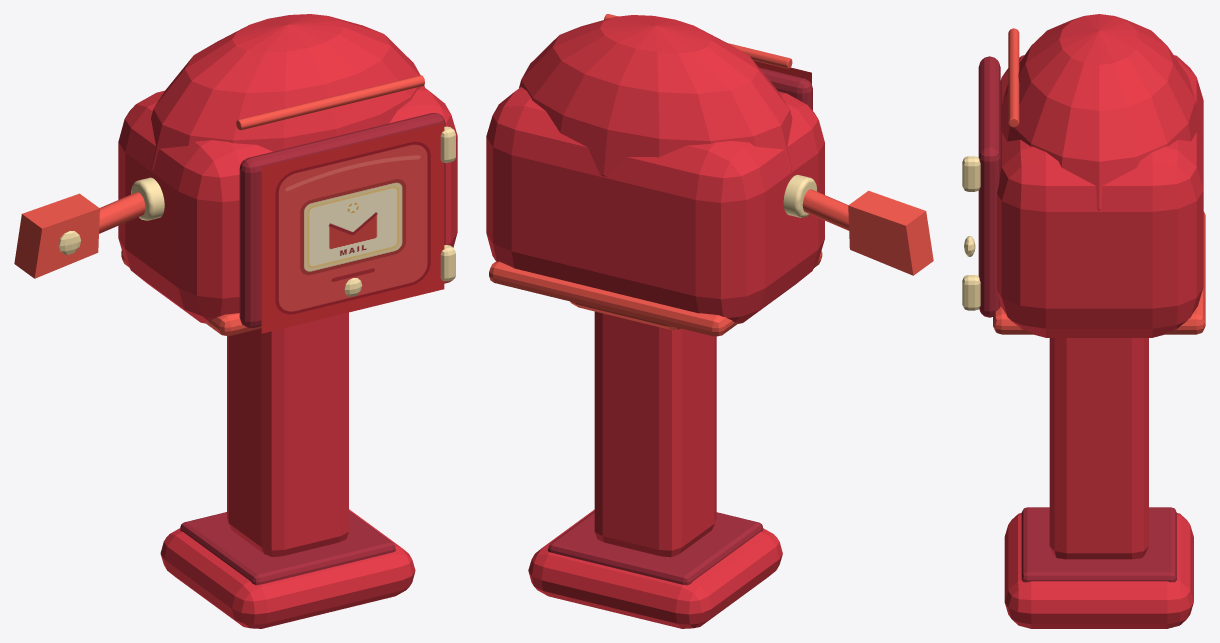
File: asset.glb
3 views of the same model, side by side, from view 1: azimuth 30°, elevation 25°; view 2: azimuth 150°, elevation 25°; view 3: azimuth 270°, elevation 25° (orthographic).
Visible parts, largest first — view 1: Small front door • painted postal emblem, Mailbox support post, Curved mailbox crown, Rounded mailbox shell, Broad rounded plinth, Front door raised rim, Plinth lower shadow line, Lowered red pennant, Crown highlight bead, Lowered signal arm, Signal flag pivot, Lower shell band; view 2: Rounded mailbox shell, Curved mailbox crown, Mailbox support post, Broad rounded plinth, Plinth lower shadow line, Lowered red pennant, Lower shell band, Lowered signal arm, Front door raised rim, Signal flag pivot, Crown highlight bead; view 3: Rounded mailbox shell, Curved mailbox crown, Mailbox support post, Broad rounded plinth, Plinth lower shadow line, Front door raised rim, Lower shell band, Crown highlight bead, Ivory door hinge, Ivory door hinge.001.
Part boxes in pixels (x1,y1,x2,y2): Small front door • painted postal emblem: (261, 122, 444, 333); Mailbox support post: (227, 312, 348, 556); Curved mailbox crown: (151, 14, 424, 170); Rounded mailbox shell: (118, 86, 457, 323); Broad rounded plinth: (160, 509, 415, 628); Front door raised rim: (239, 113, 445, 327); Plinth lower shadow line: (180, 511, 395, 585); Lowered red pennant: (14, 193, 99, 278); Crown highlight bead: (236, 75, 424, 130); Lowered signal arm: (99, 192, 145, 233); Signal flag pivot: (131, 177, 164, 220); Lower shell band: (121, 250, 452, 335); Rounded mailbox shell: (486, 87, 824, 323); Curved mailbox crown: (519, 15, 792, 176); Mailbox support post: (594, 311, 716, 557); Broad rounded plinth: (528, 509, 782, 628); Plinth lower shadow line: (548, 511, 762, 585); Lowered red pennant: (848, 190, 933, 275); Lower shell band: (489, 251, 822, 336); Lowered signal arm: (802, 189, 849, 230); Front door raised rim: (759, 67, 812, 110); Signal flag pivot: (783, 175, 816, 217); Crown highlight bead: (604, 14, 792, 68); Rounded mailbox shell: (997, 55, 1203, 337); Curved mailbox crown: (1000, 14, 1203, 210); Mailbox support post: (1049, 338, 1148, 559); Broad rounded plinth: (1004, 513, 1193, 628); Plinth lower shadow line: (1021, 507, 1176, 582); Front door raised rim: (978, 56, 1000, 317); Lower shell band: (993, 211, 1205, 334); Crown highlight bead: (1008, 28, 1019, 127); Ivory door hinge: (962, 275, 980, 310); Ivory door hinge.001: (962, 156, 980, 191).
Size of the model in its own units: 0.9596 by 1.28 by 0.501.
5 materials, 1 textured.
